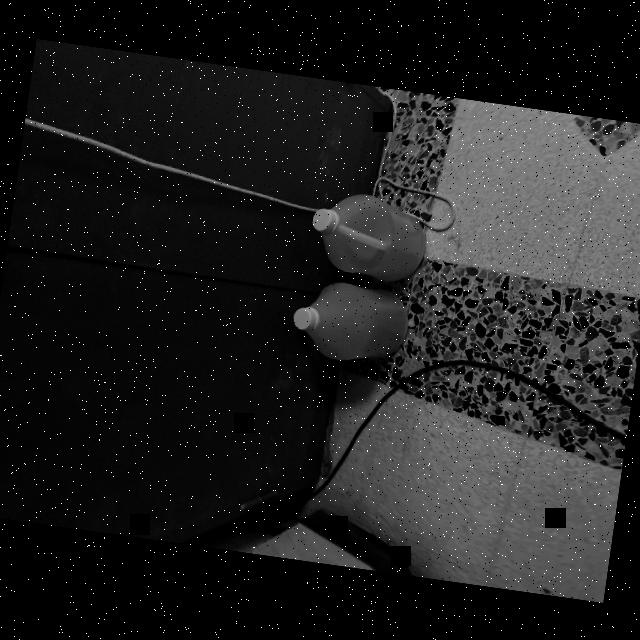chemical_plastic_gallon: (298, 173, 434, 292), (279, 273, 419, 383)
